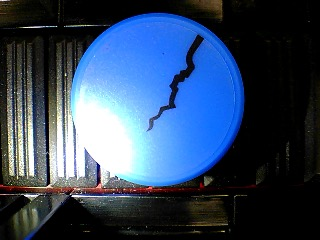CRACK: (71, 13, 245, 187)
